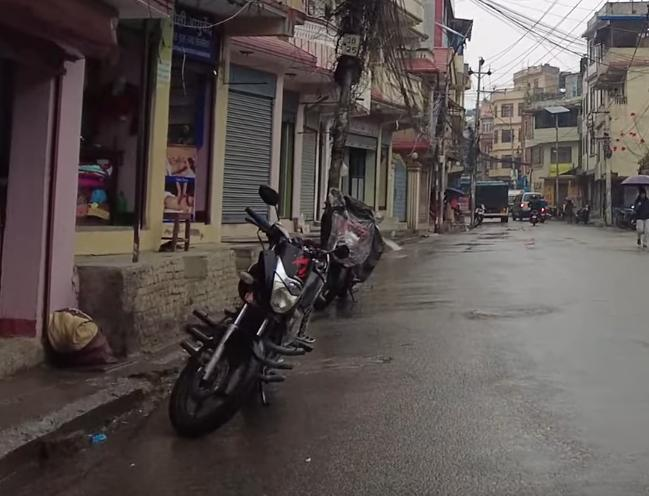bike: (165, 181, 359, 442)
